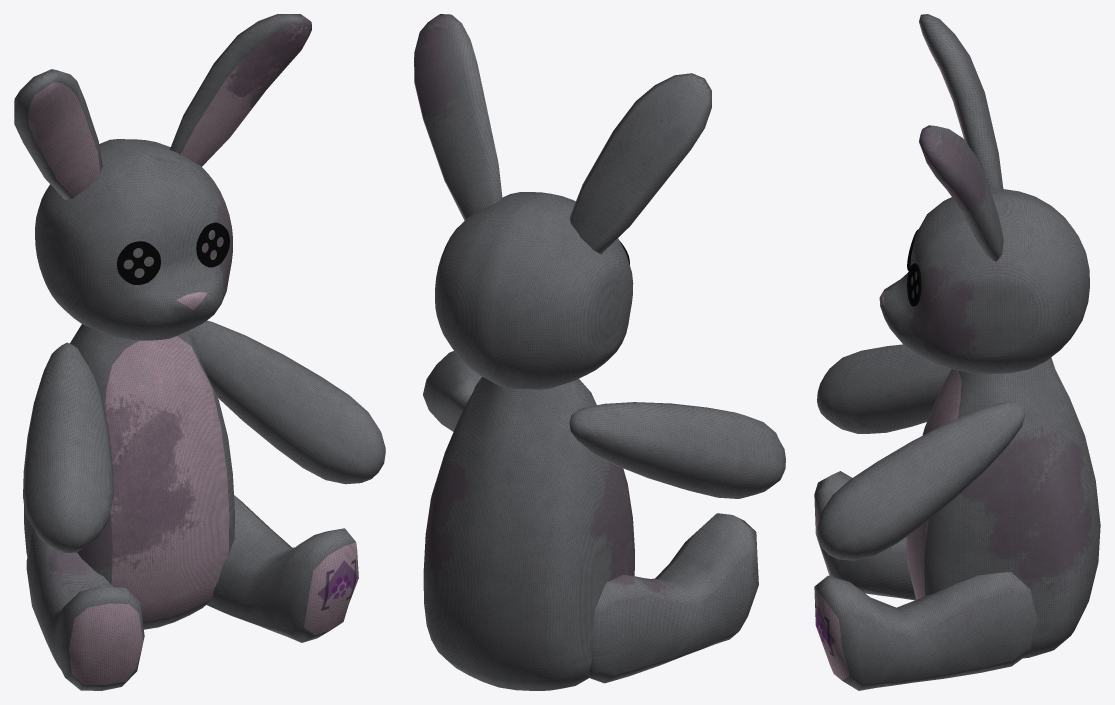
The model's file is toy_rabbit.glb.
3 views of the same model, side by side, from view 1: azimuth 30°, elevation 25°; view 2: azimuth 150°, elevation 25°; view 3: azimuth 270°, elevation 25° (orthographic). The views are drawn at different scales.
Parts seen in each view (by area): view 1: g (×9); view 2: g (×7); view 3: g (×9).
Part boxes in pixels (box(x1,y1,x2,y2)): g (×9): box(14, 14, 385, 690); g (×7): box(414, 14, 785, 690); g (×9): box(814, 14, 1100, 690).
Bounding box in the file's own units: 1.2 × 2 × 0.91.
3 materials, 3 textured.
